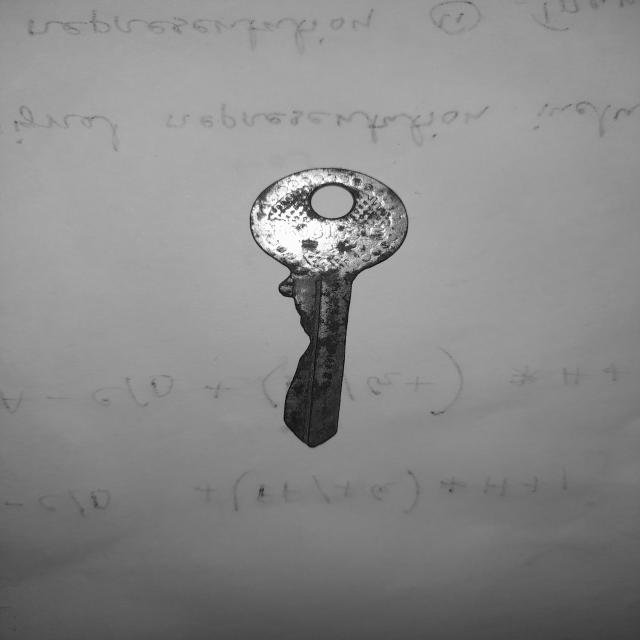KEY: (250, 168, 408, 447)
